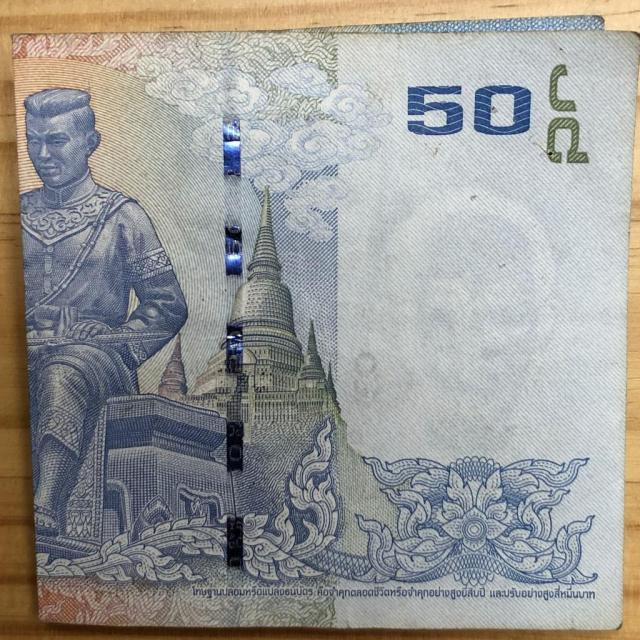THAI50: (8, 16, 639, 633)
